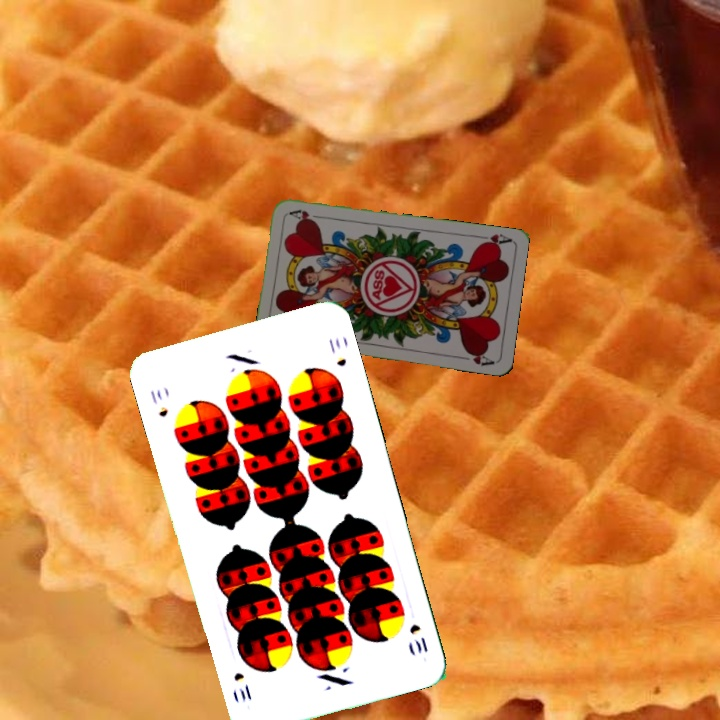HA: (472, 230, 513, 249)
S10: (405, 619, 431, 656), (146, 385, 171, 420)
